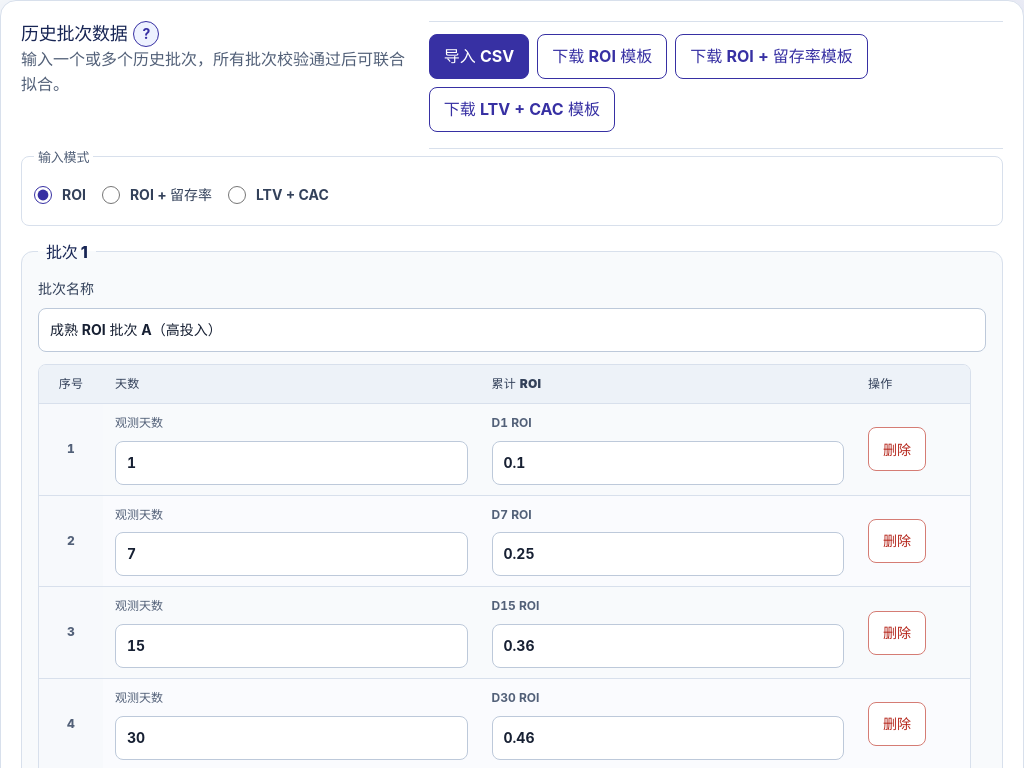
fit workspace › aligns ROI and retention inputs with their table columns
Click the radio button labelled "ROI + 留存率" at (111, 195), box [102,186,120,204]
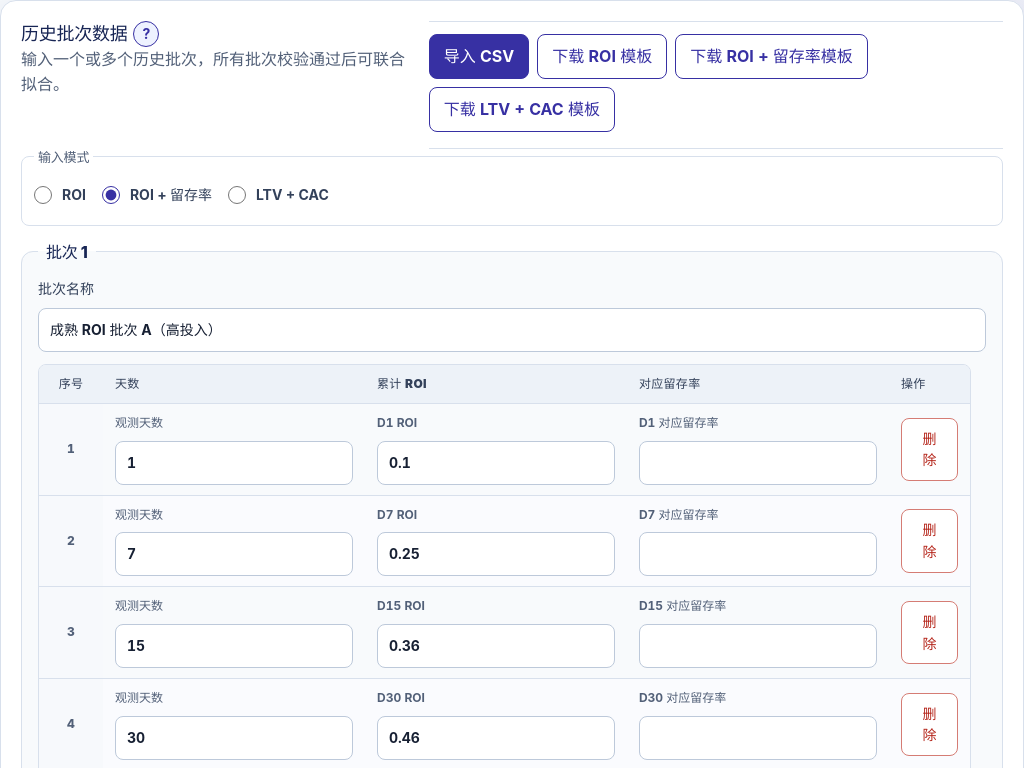
Expected: the column headings read "序号", "天数", "累计 ROI", "对应留存率", "操作", in this order, [39,364,103,404]; [103,364,365,404]; [365,364,627,404]; [627,364,889,404]; [889,364,970,404]
Now the field labelled "D1 ROI" holds "0.1", box [377,441,615,485]
Now the field labelled "D1 对应留存率" is empty, box [639,441,877,485]
